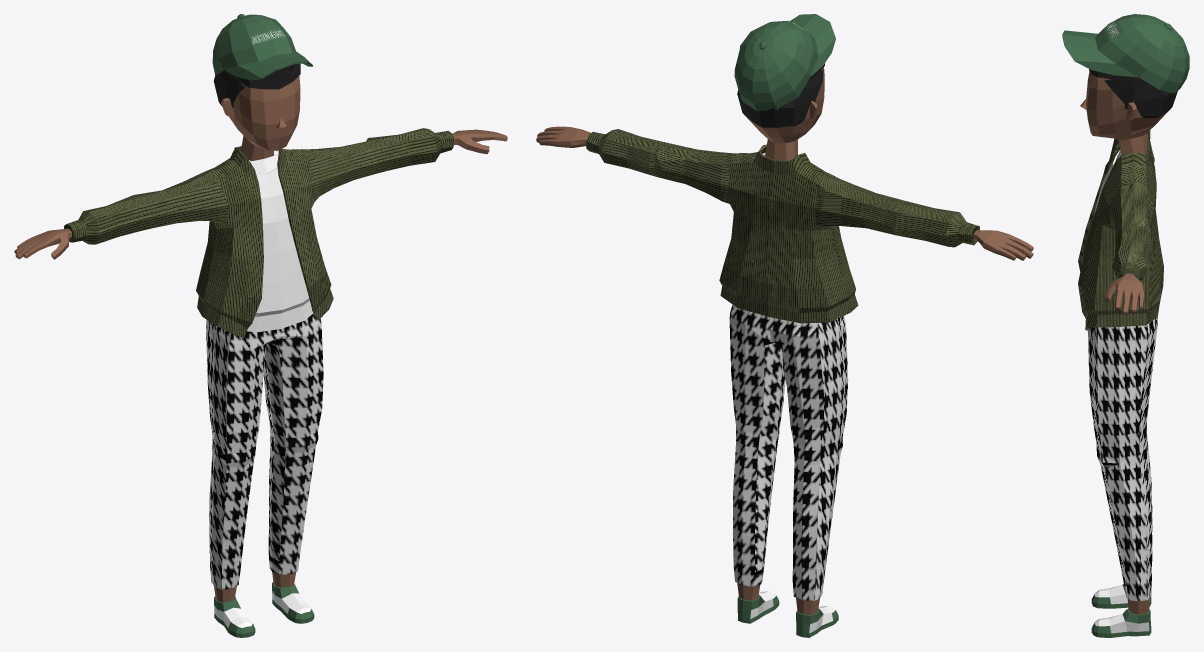
The model's file is mashi-textured.fbx.
The picture shows the model from 3 angles, left to right: view 1: azimuth 30°, elevation 25°; view 2: azimuth 150°, elevation 25°; view 3: azimuth 270°, elevation 25°; orthographic projection.
Parts seen in each view (by area): view 1: clavicle_l, calf_r, pelvis, cap_logo, head, ball_r, hair, hand_r, hand_l; view 2: clavicle_l, calf_r, cap_logo, hair, head, ball_r, hand_r, hand_l; view 3: calf_r, clavicle_l, cap_logo, head, ball_r, hair, hand_l, calf_l.
Boxes of the visible parts, <box> form: clavicle_l: <box>64,128,454,338</box>; calf_r: <box>206,313,323,589</box>; pelvis: <box>247,150,313,332</box>; cap_logo: <box>212,14,313,80</box>; head: <box>221,66,300,161</box>; ball_r: <box>214,582,314,637</box>; hair: <box>213,63,300,107</box>; hand_r: <box>14,228,71,259</box>; hand_l: <box>452,129,507,154</box>; clavicle_l: <box>586,129,979,323</box>; calf_r: <box>729,304,848,600</box>; cap_logo: <box>734,14,835,111</box>; hair: <box>737,63,824,127</box>; head: <box>744,67,824,160</box>; ball_r: <box>737,591,838,637</box>; hand_r: <box>973,230,1033,260</box>; hand_l: <box>536,126,590,147</box>; calf_r: <box>1087,317,1157,601</box>; clavicle_l: <box>1078,130,1163,330</box>; cap_logo: <box>1062,14,1189,93</box>; head: <box>1080,71,1170,154</box>; ball_r: <box>1091,583,1151,637</box>; hair: <box>1089,69,1177,118</box>; hand_l: <box>1105,273,1144,315</box>; calf_l: <box>1128,598,1149,614</box>.
Size of the model in its own units: 154 by 178 by 34.31.
7 materials, 7 textured.
